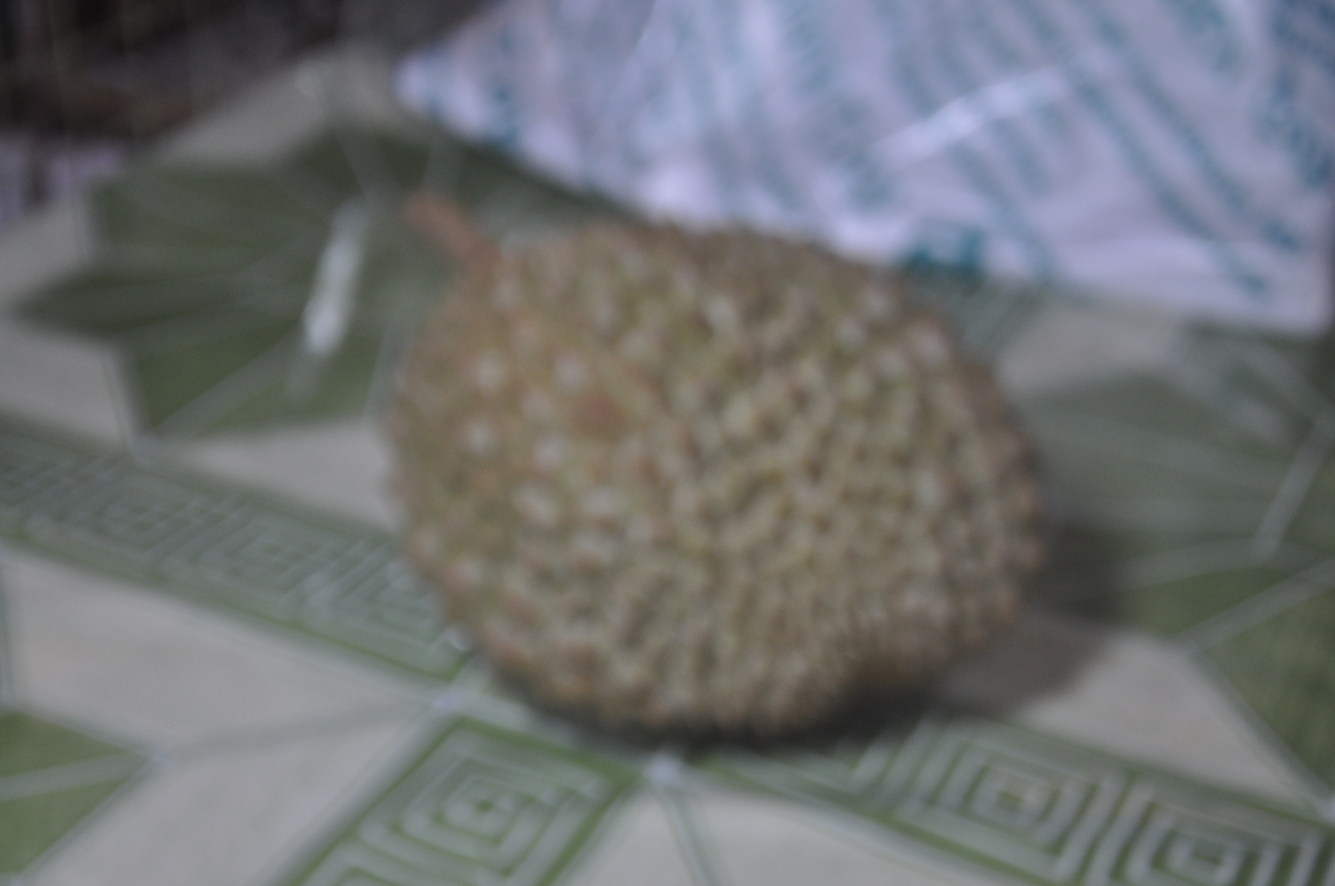mature: (390, 194, 1044, 732)
